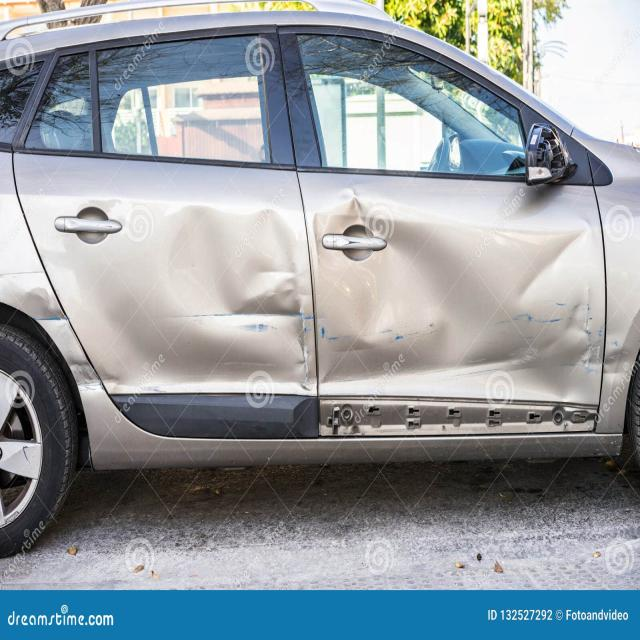crush: (0, 120, 640, 439)
